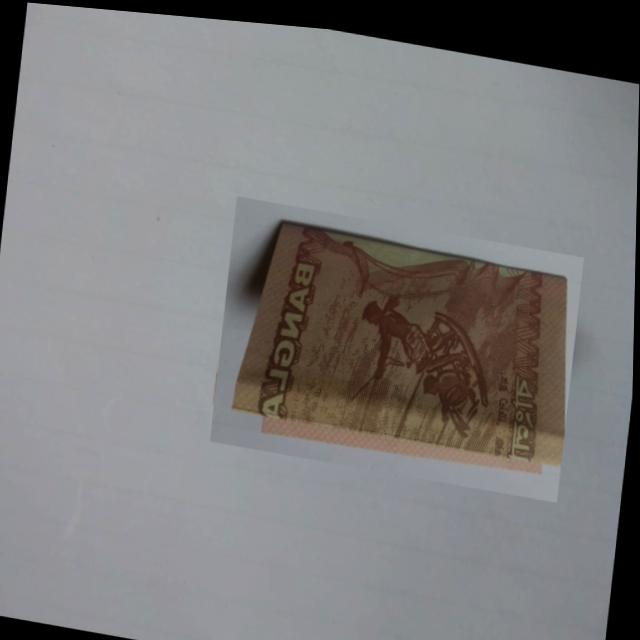Taka: (211, 189, 585, 493)
